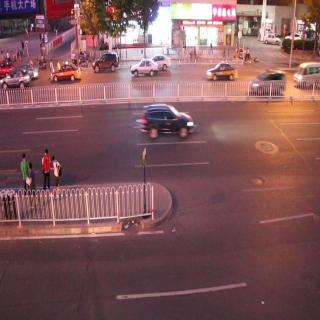Car: (134, 98, 200, 142), (251, 68, 290, 96), (0, 70, 38, 94), (294, 58, 320, 91), (49, 62, 82, 87), (90, 49, 121, 74), (206, 61, 242, 81), (130, 56, 159, 79)
